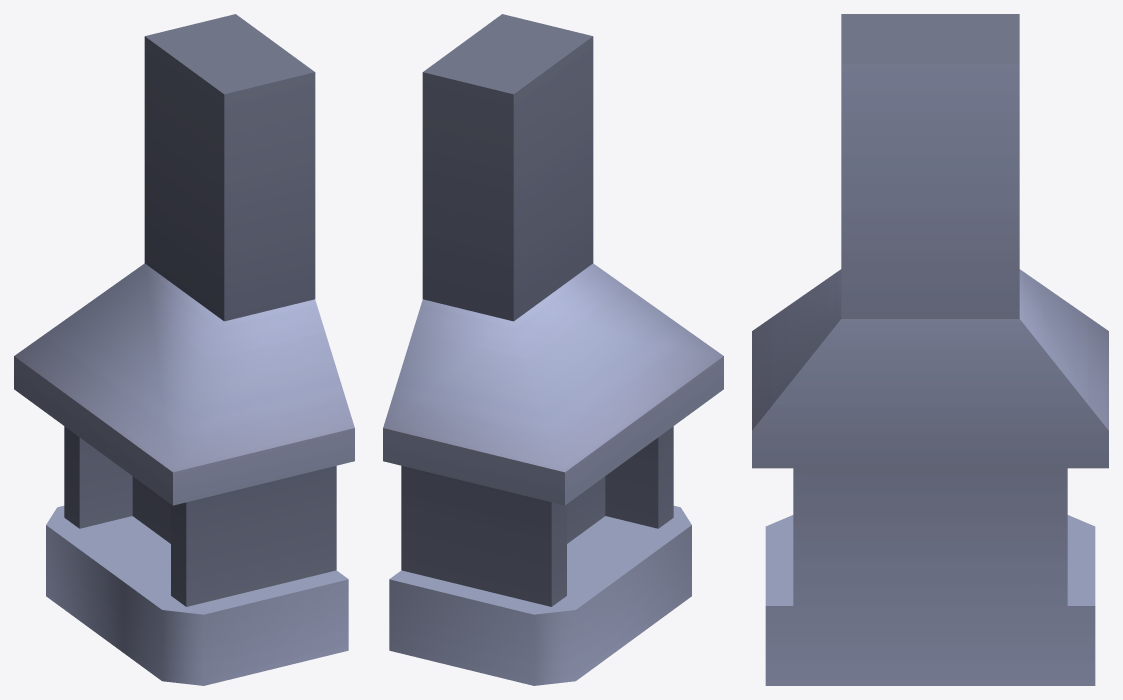
File: kenney-fantasy-town-chimney-base.glb
The picture shows the model from 3 angles, left to right: view 1: azimuth 30°, elevation 25°; view 2: azimuth 150°, elevation 25°; view 3: azimuth 270°, elevation 25°; orthographic projection. The views are drawn at different scales.
Parts seen in each view (by area): view 1: chimney-base; view 2: chimney-base; view 3: chimney-base.
Boxes of the visible parts, x1=… form: chimney-base: x1=14, y1=14, x2=354, y2=685; chimney-base: x1=383, y1=14, x2=723, y2=685; chimney-base: x1=752, y1=14, x2=1108, y2=685.
Size of the model in its own units: 0.3438 by 1 by 0.52.
1 material, 1 textured.
